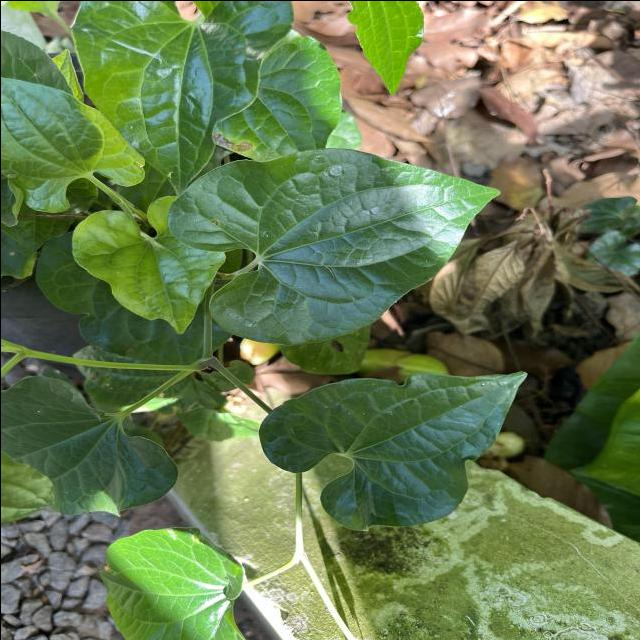Piper longum: (166, 145, 502, 347), (254, 364, 529, 536), (68, 191, 228, 334)
